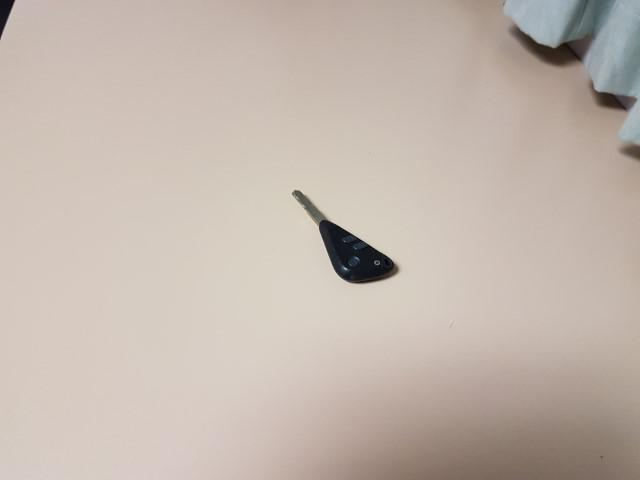key: (292, 190, 395, 281)
